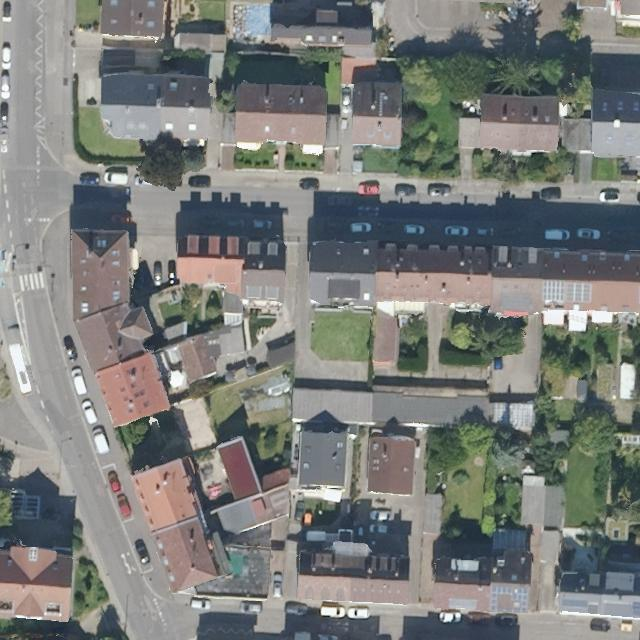PV: (489, 585, 513, 612), (542, 280, 567, 305), (571, 280, 593, 304), (512, 586, 530, 613), (559, 598, 588, 609), (632, 601, 639, 612)
